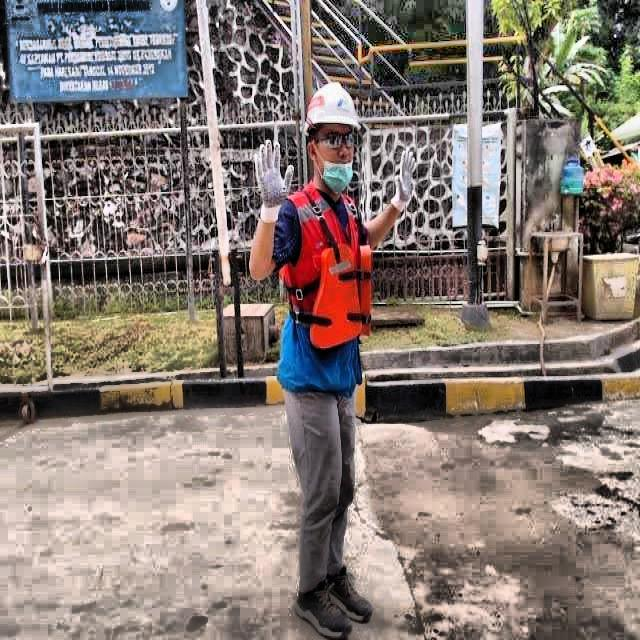safety_helmet: (299, 82, 365, 127)
safety_jacket: (278, 181, 375, 390)
